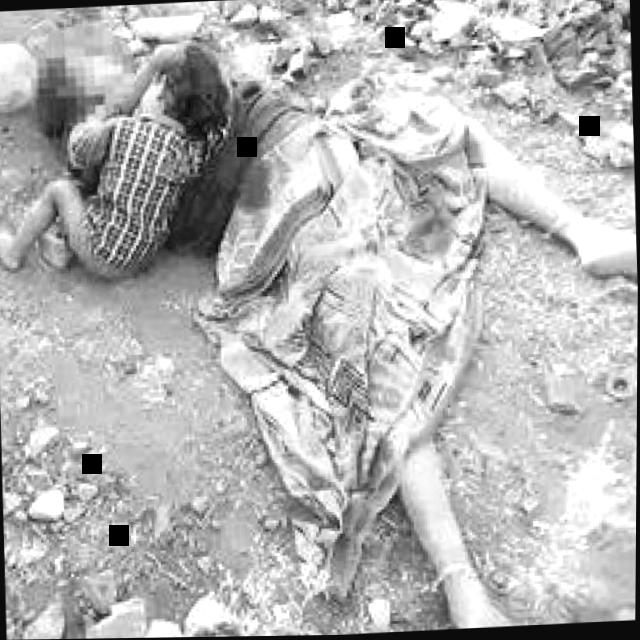Fall-Detected: (0, 2, 213, 298)
